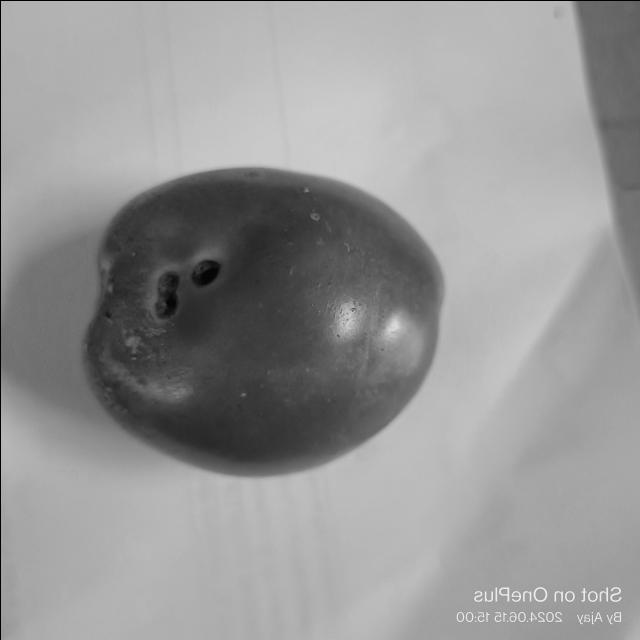fruitworm_bore: (149, 249, 224, 323)
